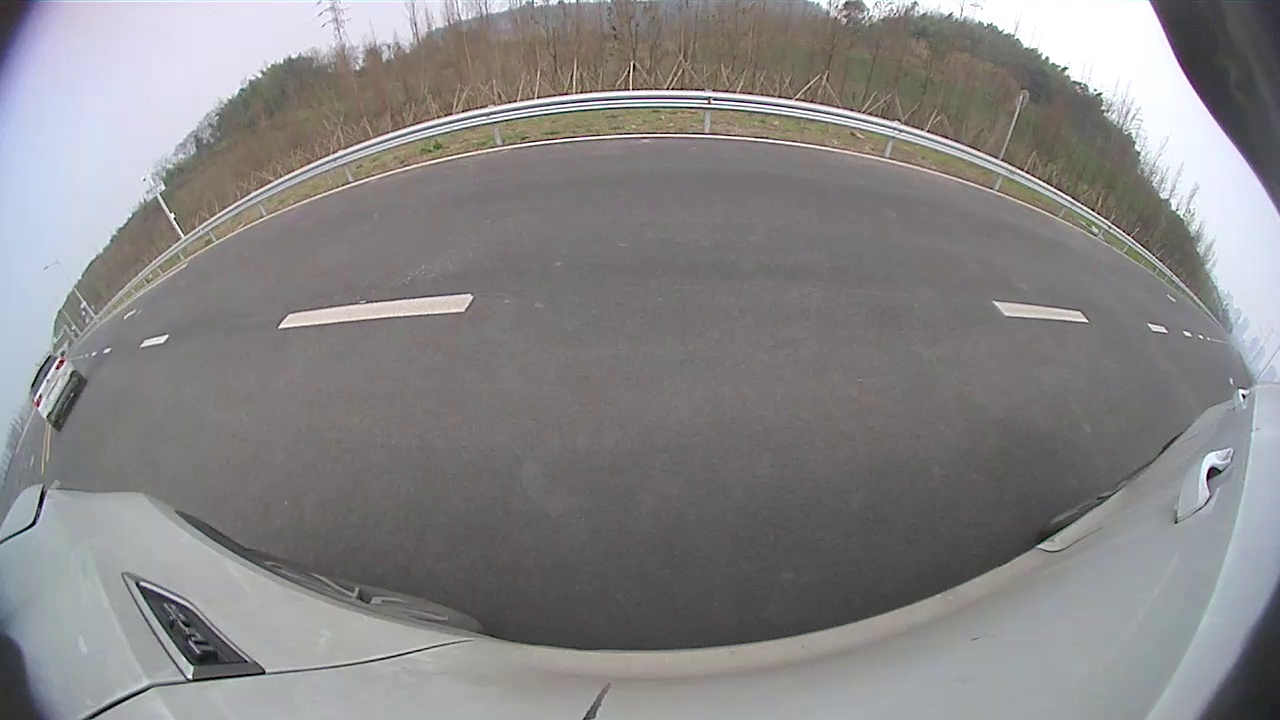car: (29, 353, 89, 432)
